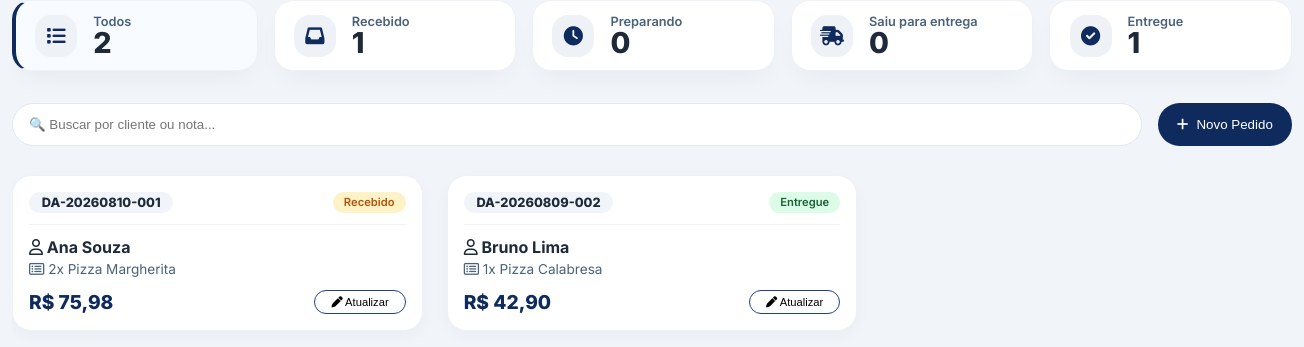
OrdersSection (painel admin — pedidos) › filtra por status ao clicar num card de contagem
Expected: the text "Ana Souza" is shown, top-left (29, 236), bottom-right (130, 256)
Click the text "Entregue" at (1171, 36), box top-left (1049, 0), bottom-right (1292, 71)
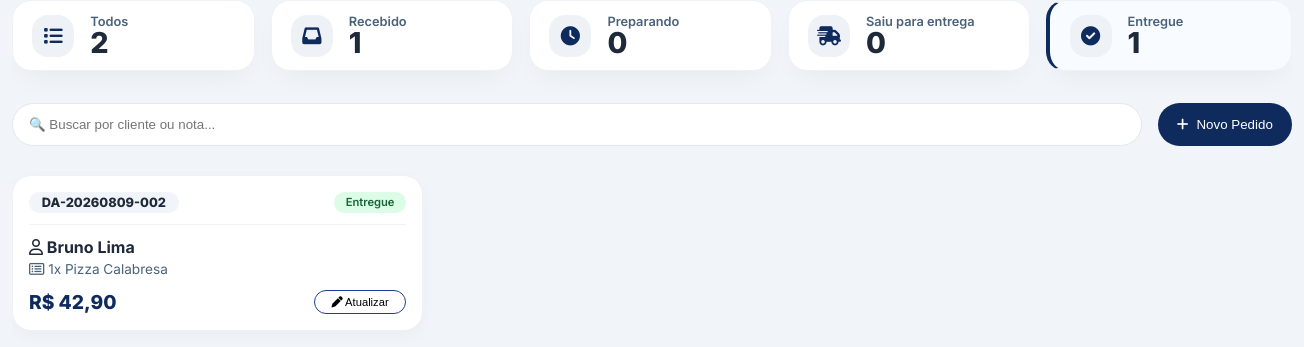
Expected: the text "Bruno Lima" is shown, top-left (29, 236), bottom-right (135, 256)
Result: the text "Ana Souza" is gone
